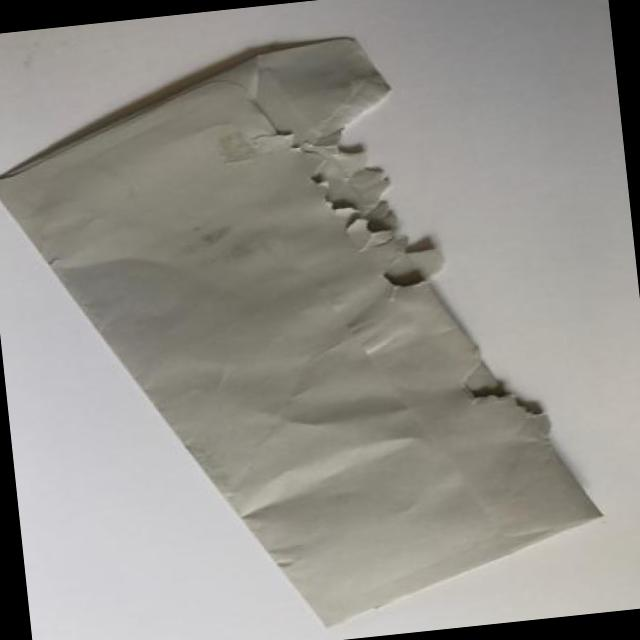paper: (247, 46, 462, 615), (0, 61, 268, 416)
